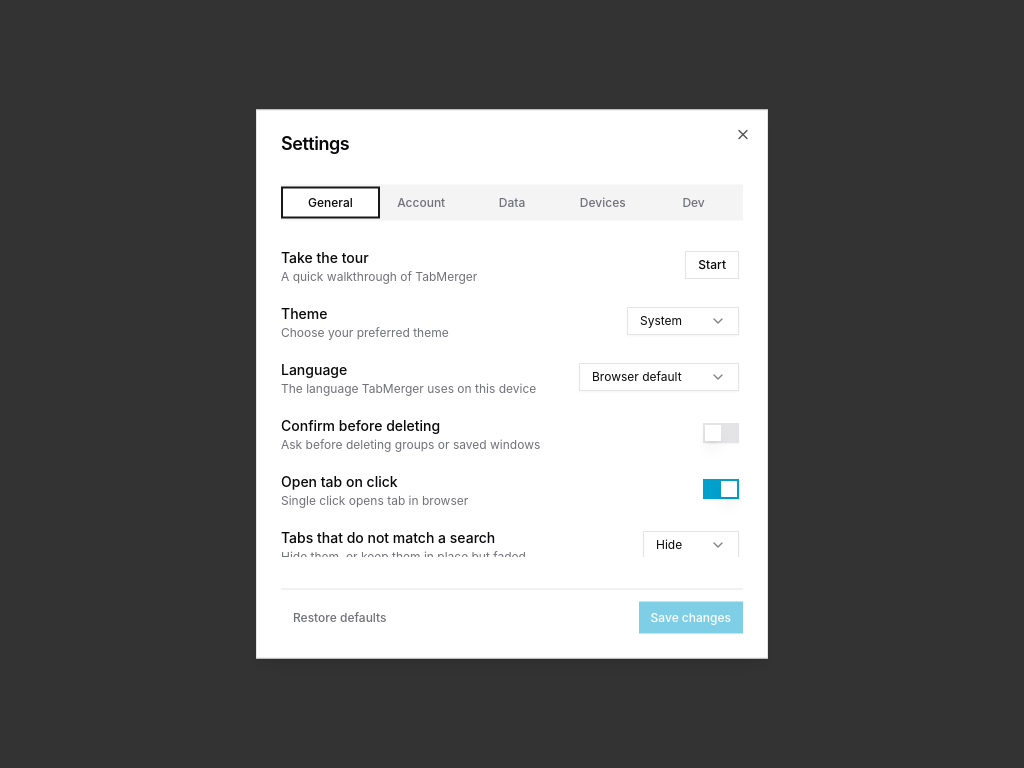
it: SettingsModal — billing portal › labels the pro plan with its price marked as US dollars
The image size is (1024, 768).
Click the tab "Account": [421, 202] box [376, 190, 467, 214]
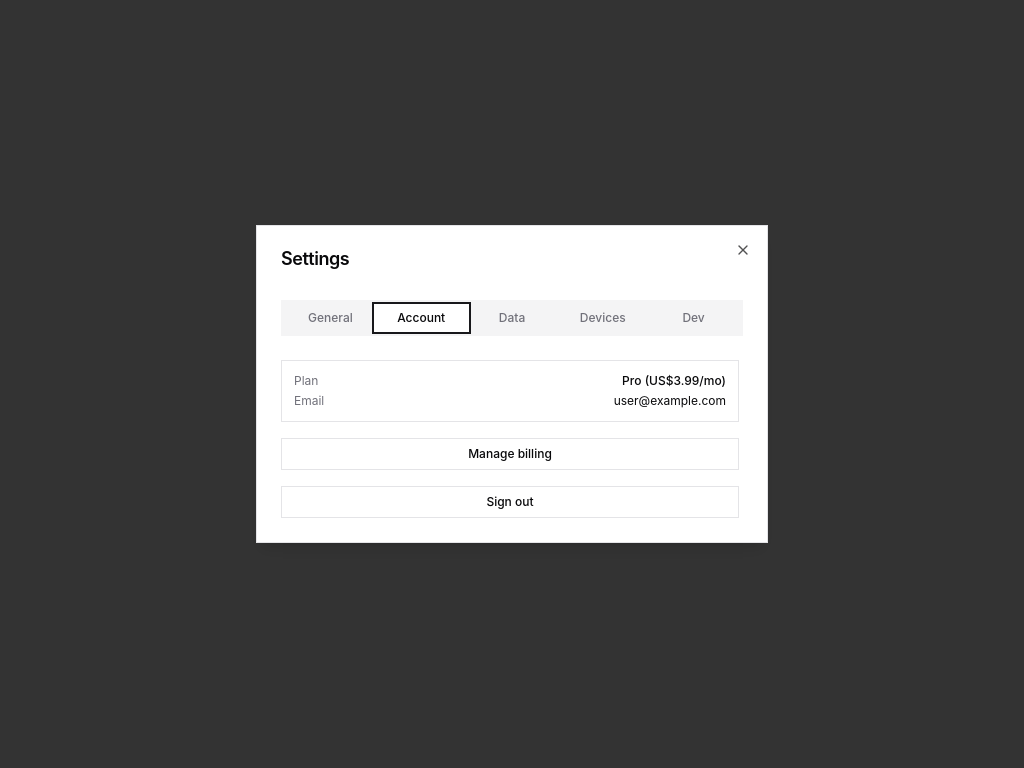
Check: the text "Pro (US$3.99/mo)" is shown, box [622, 373, 726, 389]
